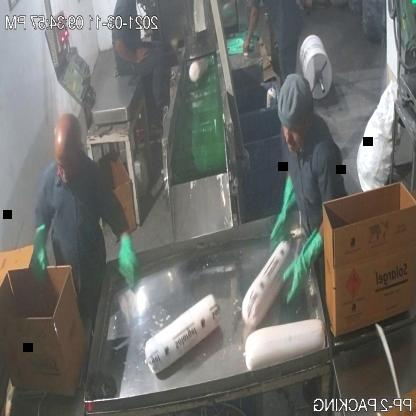glove: (30, 219, 50, 296), (117, 229, 140, 291)
no_glove: (238, 1, 264, 59), (114, 33, 148, 70)
